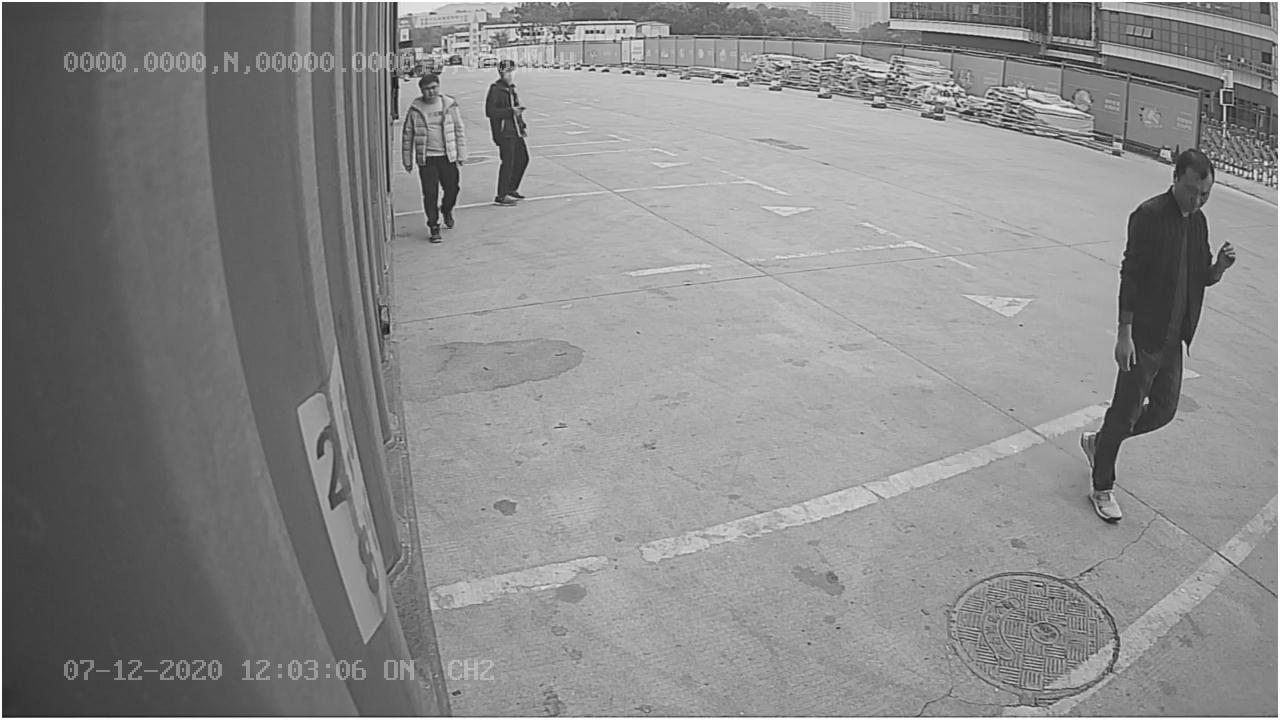person: (1075, 141, 1237, 523)
